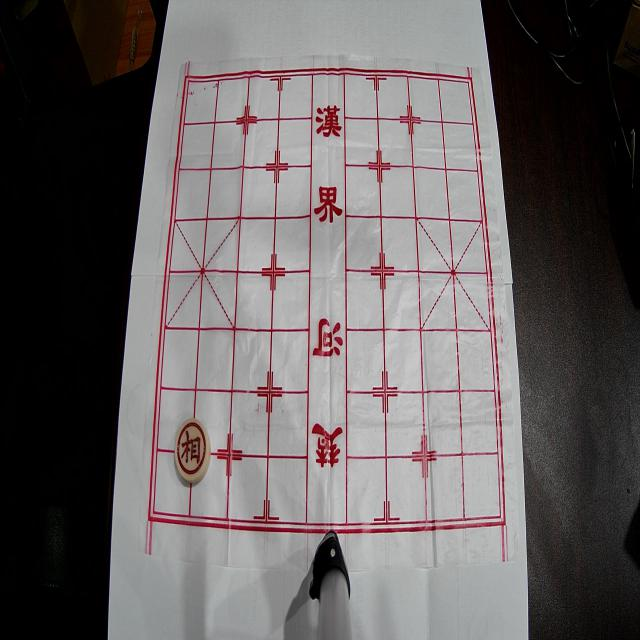red-elephant: (175, 418, 211, 484)
